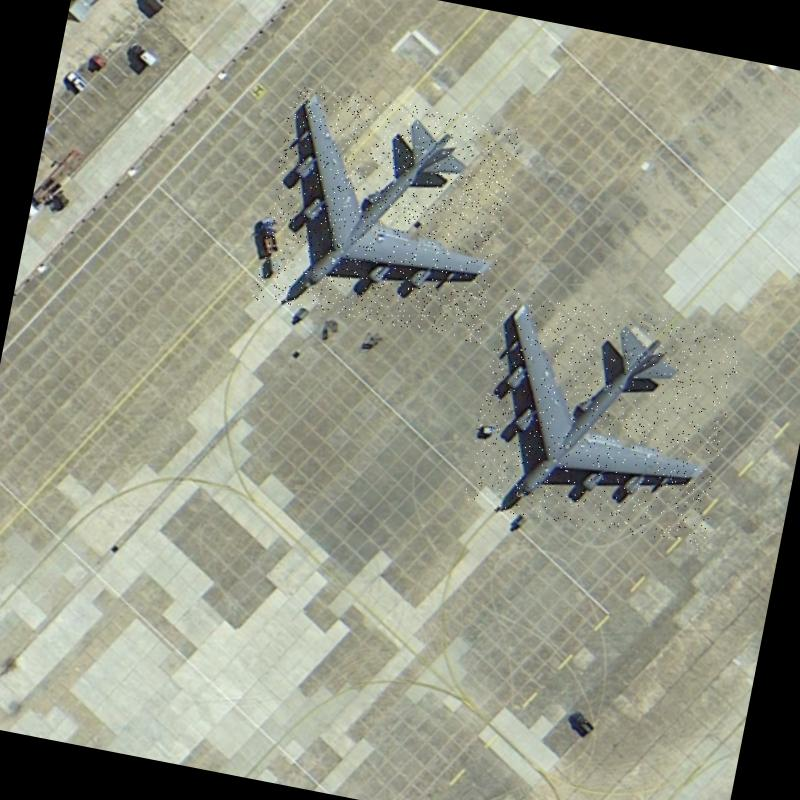A8: (461, 286, 744, 550), (252, 81, 522, 343)
